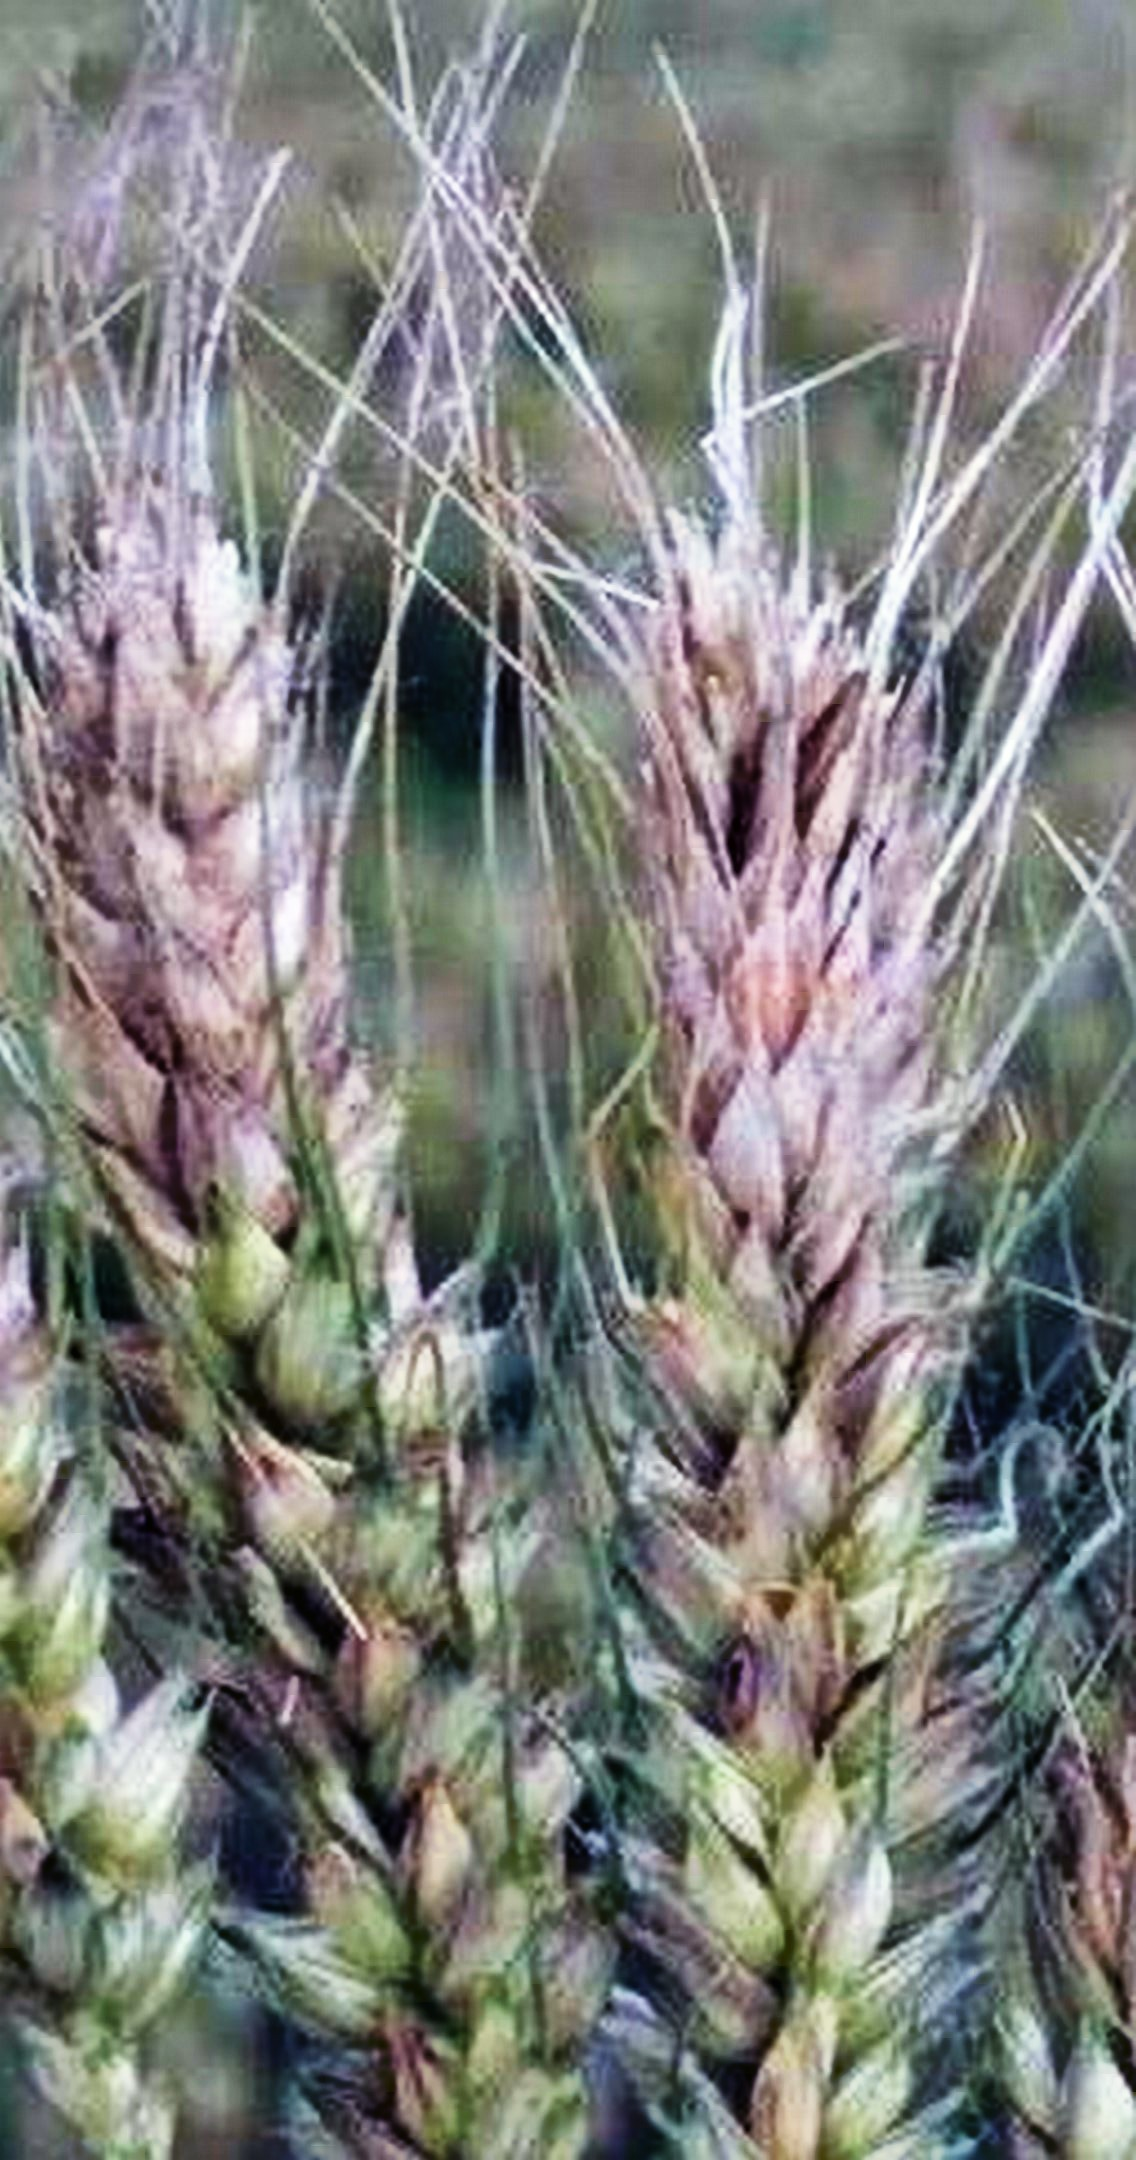Wheat scab: (23, 459, 527, 2056), (576, 511, 999, 2140)
